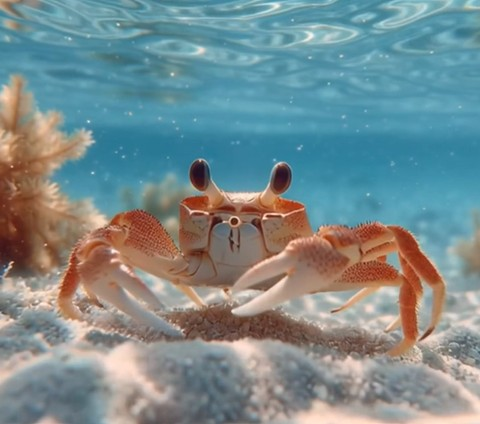crab: (227, 221, 447, 362), (227, 222, 448, 361)
